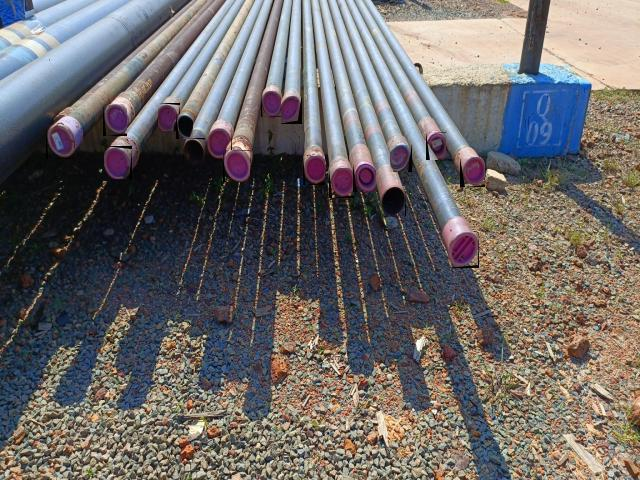pipe: (448, 232, 479, 268), (46, 125, 74, 159), (104, 146, 132, 179), (223, 150, 250, 182), (207, 128, 232, 159), (103, 104, 127, 136), (329, 168, 354, 198), (460, 157, 485, 187), (382, 186, 406, 216), (353, 163, 376, 192), (303, 156, 325, 185), (390, 143, 412, 172), (158, 103, 180, 131), (183, 138, 205, 165), (281, 96, 302, 124), (426, 132, 446, 160), (261, 92, 281, 118), (176, 114, 193, 139)
